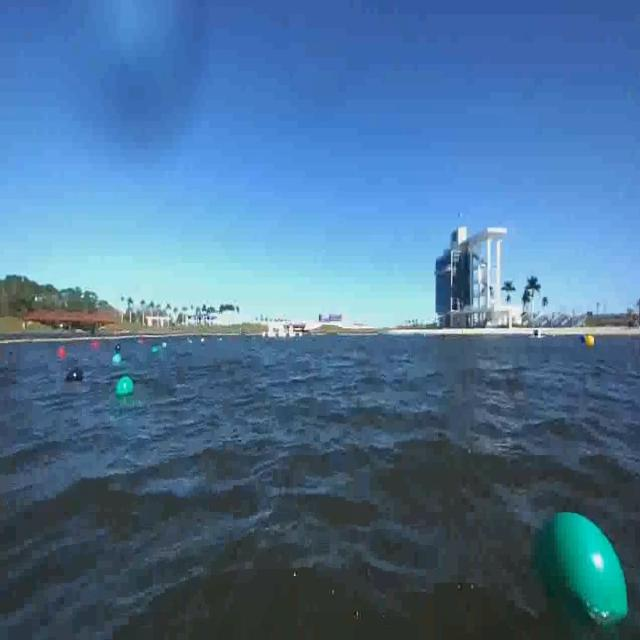black-buoy: (66, 368, 84, 385)
green-buoy: (516, 498, 638, 640), (116, 376, 134, 399)
red-buoy: (59, 346, 67, 359)
yellow-buoy: (587, 334, 596, 350)
